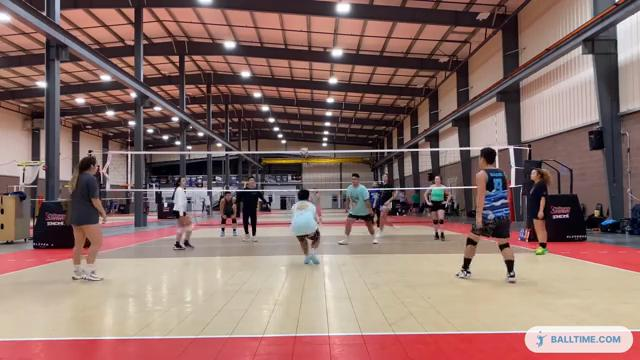ricezione: (285, 185, 326, 267)
